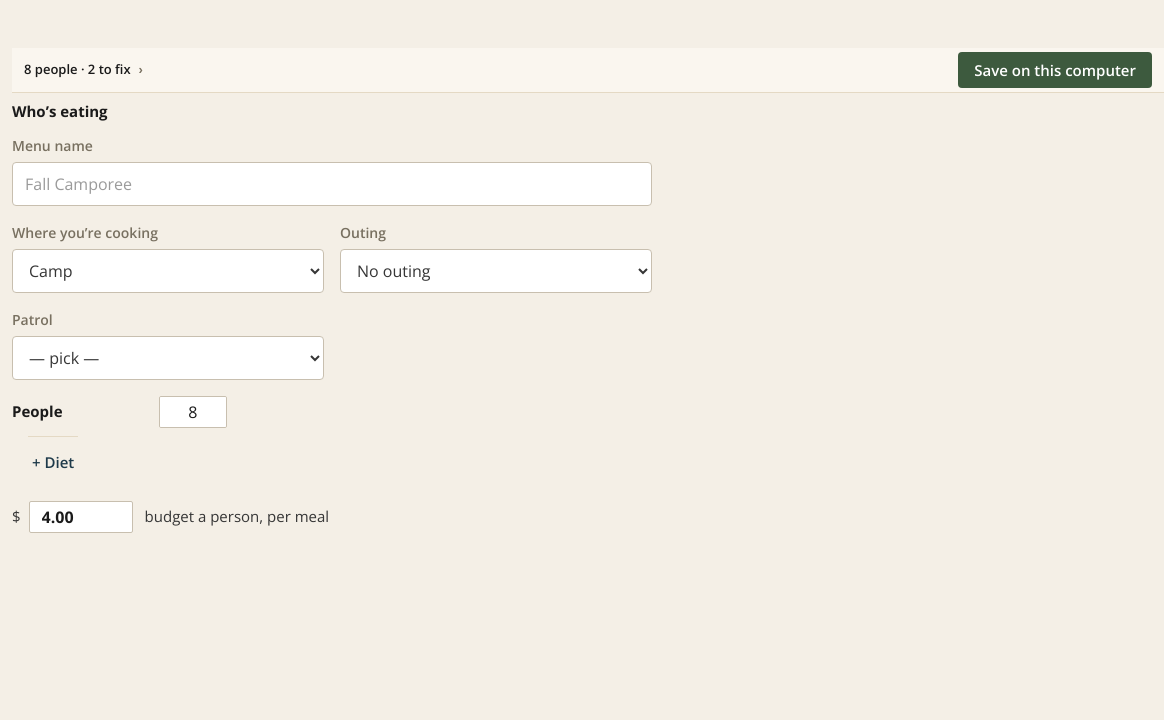
Test: LocalPlan › Visitor_IsToldWhySaveFailed_WhenStorageIsBlocked
Type "Winter Camp" into the field labelled "Menu name".
click(332, 184); type("Winter Camp")  # box [12, 162, 652, 206]
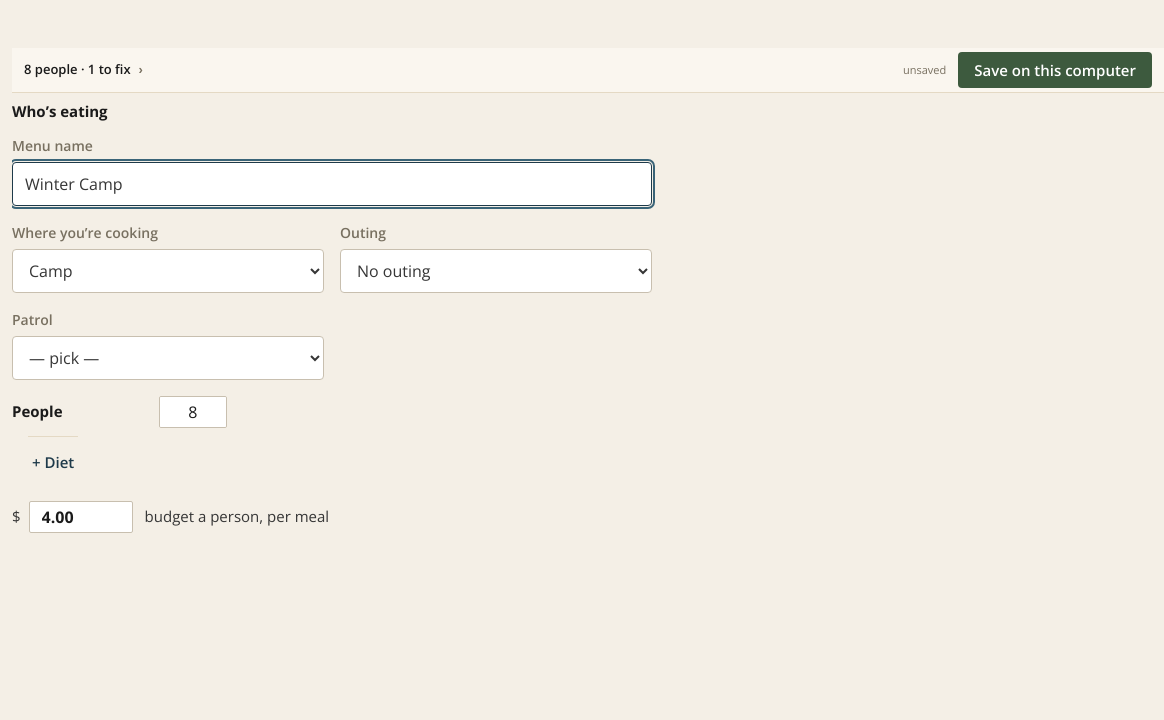
Click the button "Save on this computer".
click(1055, 70)  # box [958, 52, 1152, 88]
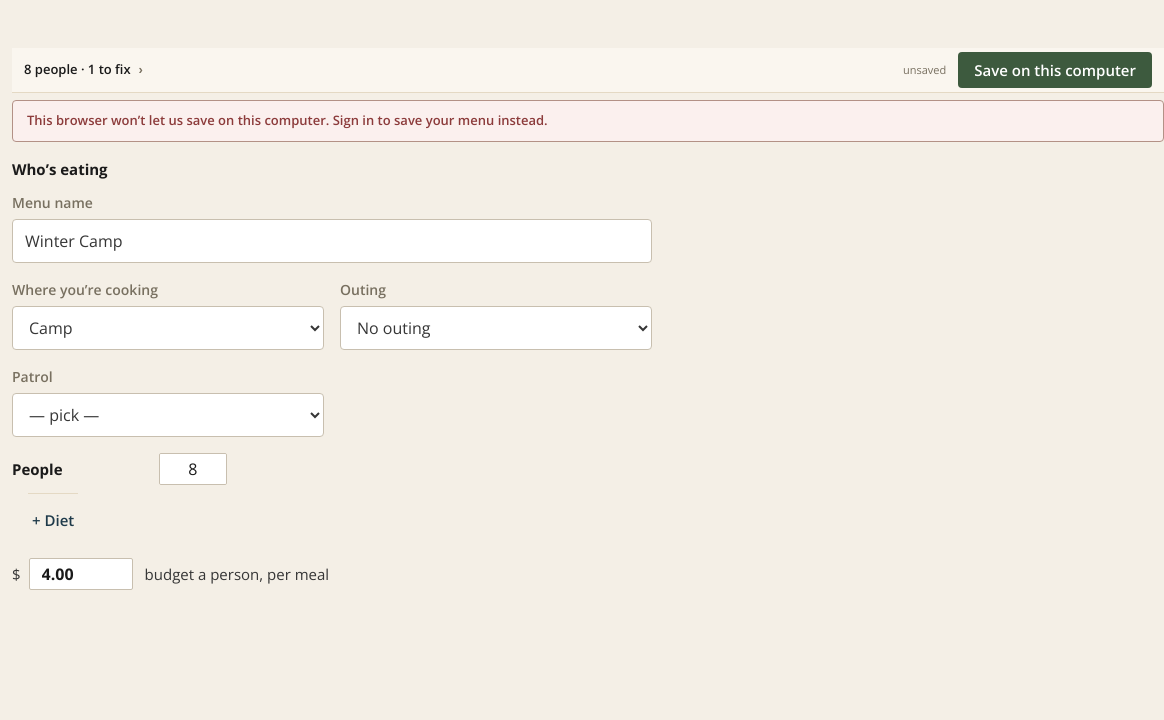
Result: the text "won’t let us save on this computer" is shown at [27, 111, 548, 129]
